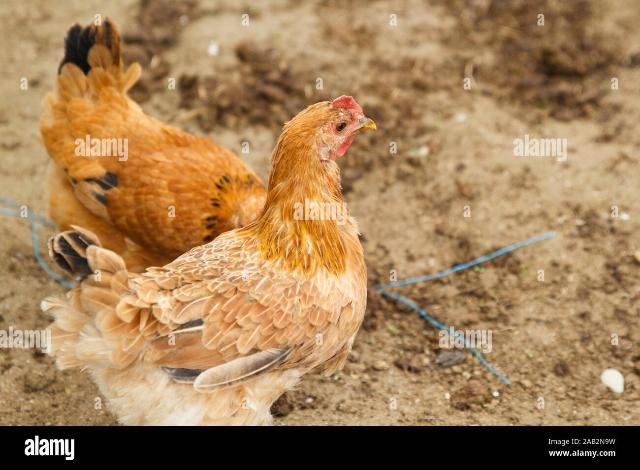Chicken: (42, 94, 377, 426), (39, 18, 268, 274)
